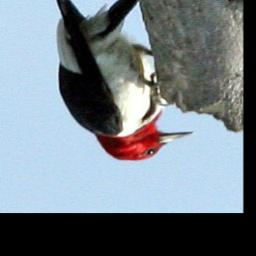Woodpecker: (52, 0, 199, 162)
